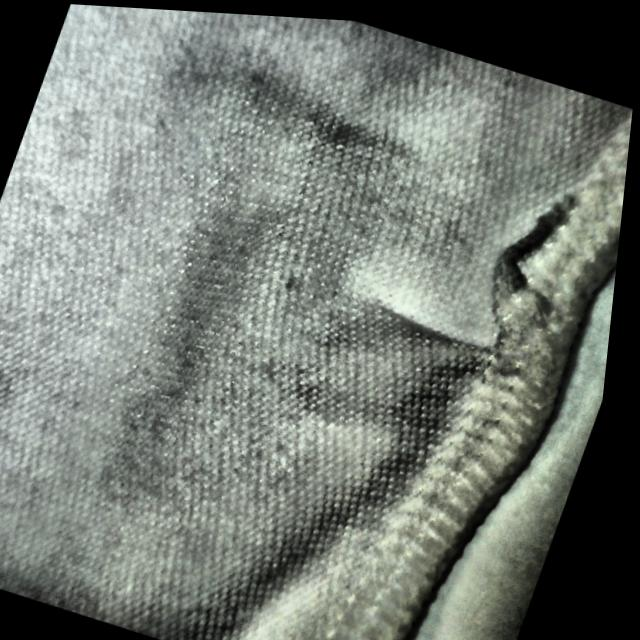seam: (388, 167, 622, 407)
